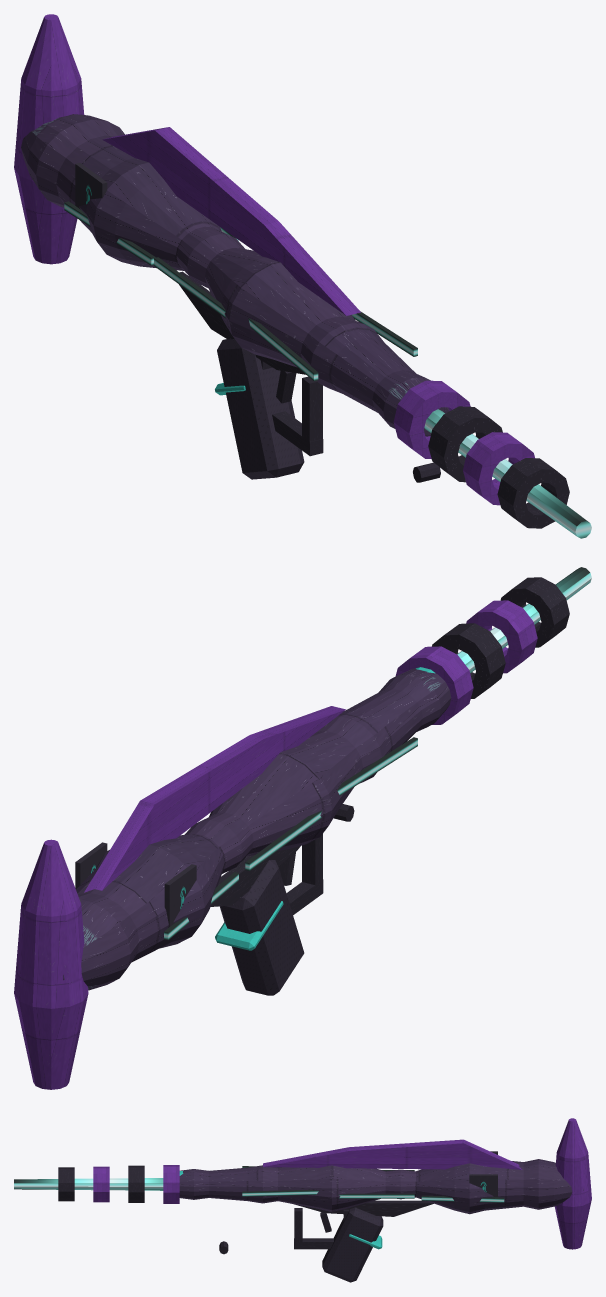
The model's file is hlx_carbine.obj.
3 renders of one model, top to bottom at view 1: azimuth 30°, elevation 25°; view 2: azimuth 150°, elevation 25°; view 3: azimuth 270°, elevation 25°, orthographic. The views are drawn at different scales.
Visible parts, largest first — view 1: hlx_carbine; view 2: hlx_carbine; view 3: hlx_carbine.
Boxes of the visible parts, x1,y1,x2,y2 form: hlx_carbine: [14, 14, 591, 538]; hlx_carbine: [14, 567, 591, 1089]; hlx_carbine: [14, 1118, 591, 1282].
Bounding box in the file's own units: 0.09 × 0.2353 × 0.771.
Materials: 1 (1 with a texture image).
